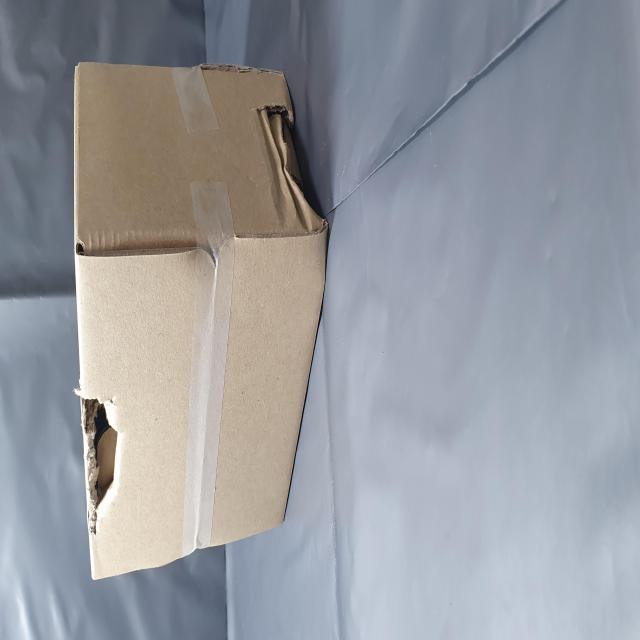damaged: (58, 141, 141, 209), (290, 456, 304, 520)
